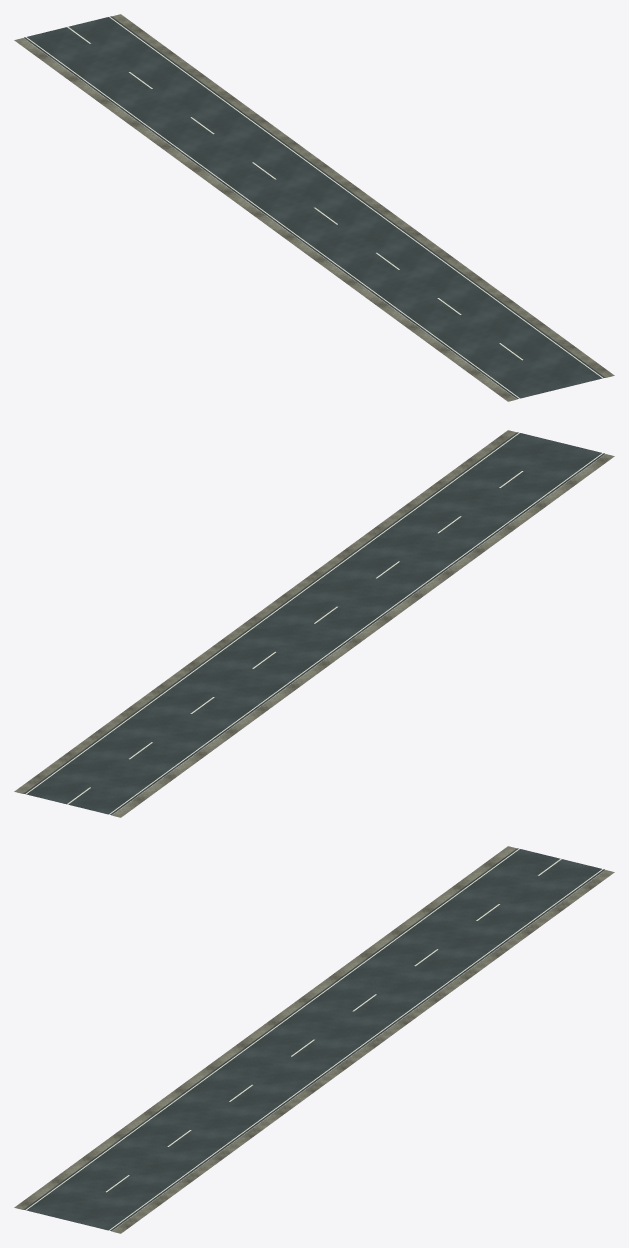
Rendered from road_mountain_straight_64m.glb.
3 renders of one model, top to bottom at view 1: azimuth 30°, elevation 25°; view 2: azimuth 150°, elevation 25°; view 3: azimuth 330°, elevation 25°, orthographic.
Parts seen in each view (by area): view 1: road_surface, static_gravel, static_road_marking; view 2: road_surface, static_gravel, static_road_marking; view 3: road_surface, static_gravel, static_road_marking.
Part boxes in pixels (x1,y1,x2,y2): road_surface: (24, 16, 605, 399); static_gravel: (14, 14, 614, 401); static_road_marking: (25, 16, 603, 398); road_surface: (23, 432, 604, 815); static_gravel: (14, 430, 614, 817); static_road_marking: (25, 432, 603, 814); road_surface: (23, 848, 604, 1231); static_gravel: (14, 846, 614, 1233); static_road_marking: (25, 848, 603, 1230).
Bounding box in the file's own units: 8 × 0.027 × 64.
3 materials, 2 textured.
